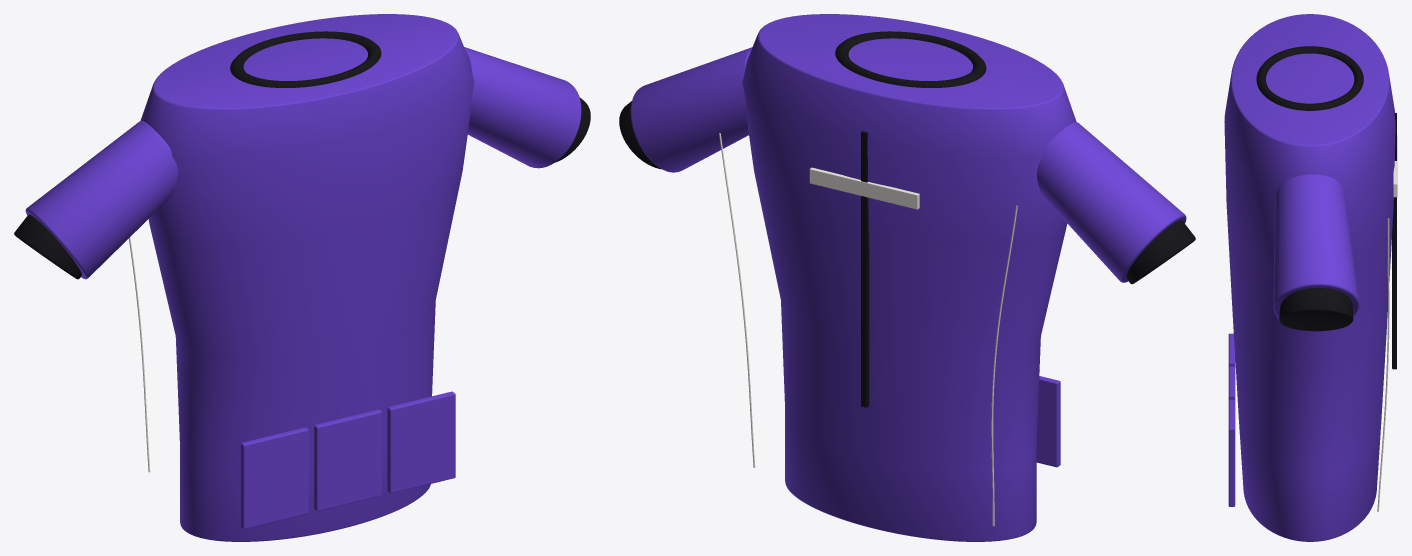
Rendered from jersey-men.glb.
3 renders of one model, left to right at view 1: azimuth 30°, elevation 25°; view 2: azimuth 150°, elevation 25°; view 3: azimuth 270°, elevation 25°, orthographic. The views are drawn at different scales.
Visible parts, largest first — view 1: GARMENT_TORSO, GARMENT_SLEEVE_L, GARMENT_SLEEVE_R, GARMENT_REAR_POCKET.002, GARMENT_REAR_POCKET.001, GARMENT_REAR_POCKET, GARMENT_DARK_COLLAR, GARMENT_CUFF_L; view 2: GARMENT_TORSO, GARMENT_SLEEVE_L, GARMENT_SLEEVE_R, GARMENT_DARK_COLLAR, GARMENT_ZIP, GARMENT_REAR_POCKET, GARMENT_CHEST_MARK, GARMENT_CUFF_L, GARMENT_SEAM, GARMENT_SEAM.001, GARMENT_CUFF_R; view 3: GARMENT_TORSO, GARMENT_SLEEVE_R, GARMENT_CUFF_R, GARMENT_DARK_COLLAR, GARMENT_ZIP, GARMENT_REAR_POCKET.002, GARMENT_SEAM.001, GARMENT_REAR_POCKET.001, GARMENT_REAR_POCKET.
Part boxes in pixels (x1,y1,x2,y2): GARMENT_TORSO: (140, 14, 474, 541); GARMENT_SLEEVE_L: (25, 121, 178, 279); GARMENT_SLEEVE_R: (464, 47, 581, 168); GARMENT_REAR_POCKET.002: (387, 391, 455, 493); GARMENT_REAR_POCKET.001: (314, 409, 382, 511); GARMENT_REAR_POCKET: (240, 427, 308, 529); GARMENT_DARK_COLLAR: (230, 31, 381, 87); GARMENT_CUFF_L: (14, 214, 81, 279); GARMENT_TORSO: (742, 14, 1076, 541); GARMENT_SLEEVE_L: (1037, 122, 1186, 282); GARMENT_SLEEVE_R: (630, 47, 752, 172); GARMENT_DARK_COLLAR: (835, 31, 986, 87); GARMENT_ZIP: (861, 131, 869, 407); GARMENT_REAR_POCKET: (1036, 376, 1060, 467); GARMENT_CHEST_MARK: (809, 167, 919, 209); GARMENT_CUFF_L: (1126, 220, 1195, 284); GARMENT_SEAM: (991, 205, 1017, 526); GARMENT_SEAM.001: (719, 133, 755, 467); GARMENT_CUFF_R: (619, 101, 661, 169); GARMENT_TORSO: (1224, 14, 1395, 541); GARMENT_SLEEVE_R: (1273, 174, 1359, 319); GARMENT_CUFF_R: (1279, 288, 1353, 331); GARMENT_DARK_COLLAR: (1256, 46, 1363, 110); GARMENT_ZIP: (1392, 113, 1396, 369); GARMENT_REAR_POCKET.002: (1228, 399, 1235, 506); GARMENT_SEAM.001: (1377, 218, 1389, 511); GARMENT_REAR_POCKET.001: (1228, 366, 1235, 400); GARMENT_REAR_POCKET: (1228, 333, 1235, 367).
Size of the model in its own units: 1.46 by 1.11 by 0.42.
